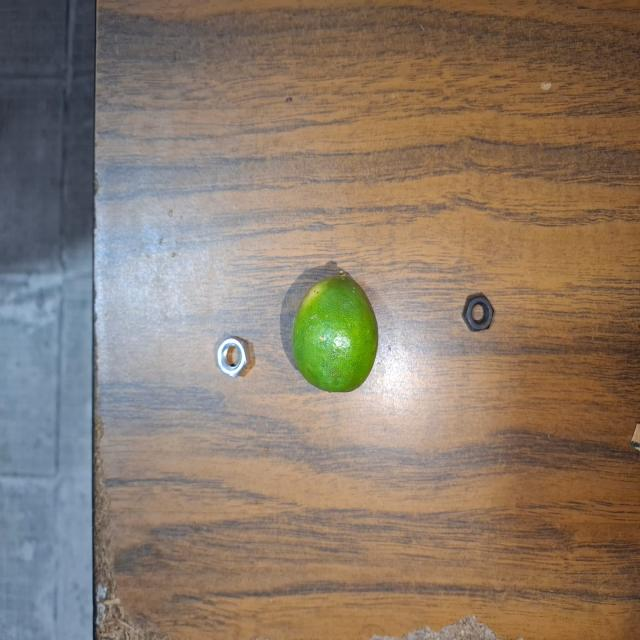limon: (289, 266, 382, 394)
milimetrico: (462, 291, 498, 340)
tuerca: (212, 333, 255, 388)
